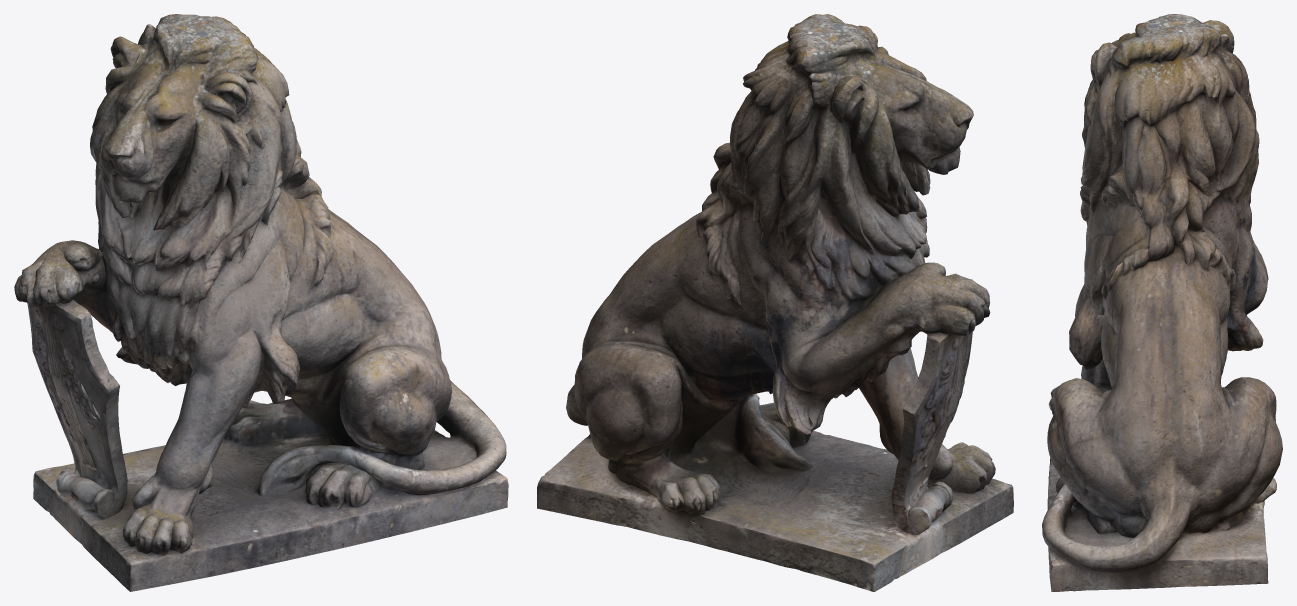
Rendered from statue.glb.
3 views of the same model, side by side, from view 1: azimuth 30°, elevation 25°; view 2: azimuth 150°, elevation 25°; view 3: azimuth 270°, elevation 25° (orthographic). The views are drawn at different scales.
Parts seen in each view (by area): view 1: Object_2; view 2: Object_2; view 3: Object_2.
Boxes of the visible parts, box(x1,y1,x2,y2) form: Object_2: box(14, 14, 508, 591); Object_2: box(537, 14, 1013, 591); Object_2: box(1042, 14, 1282, 591).
Bounding box in the file's own units: 6.48 × 6.98 × 3.35.
Materials: 1 (1 with a texture image).
